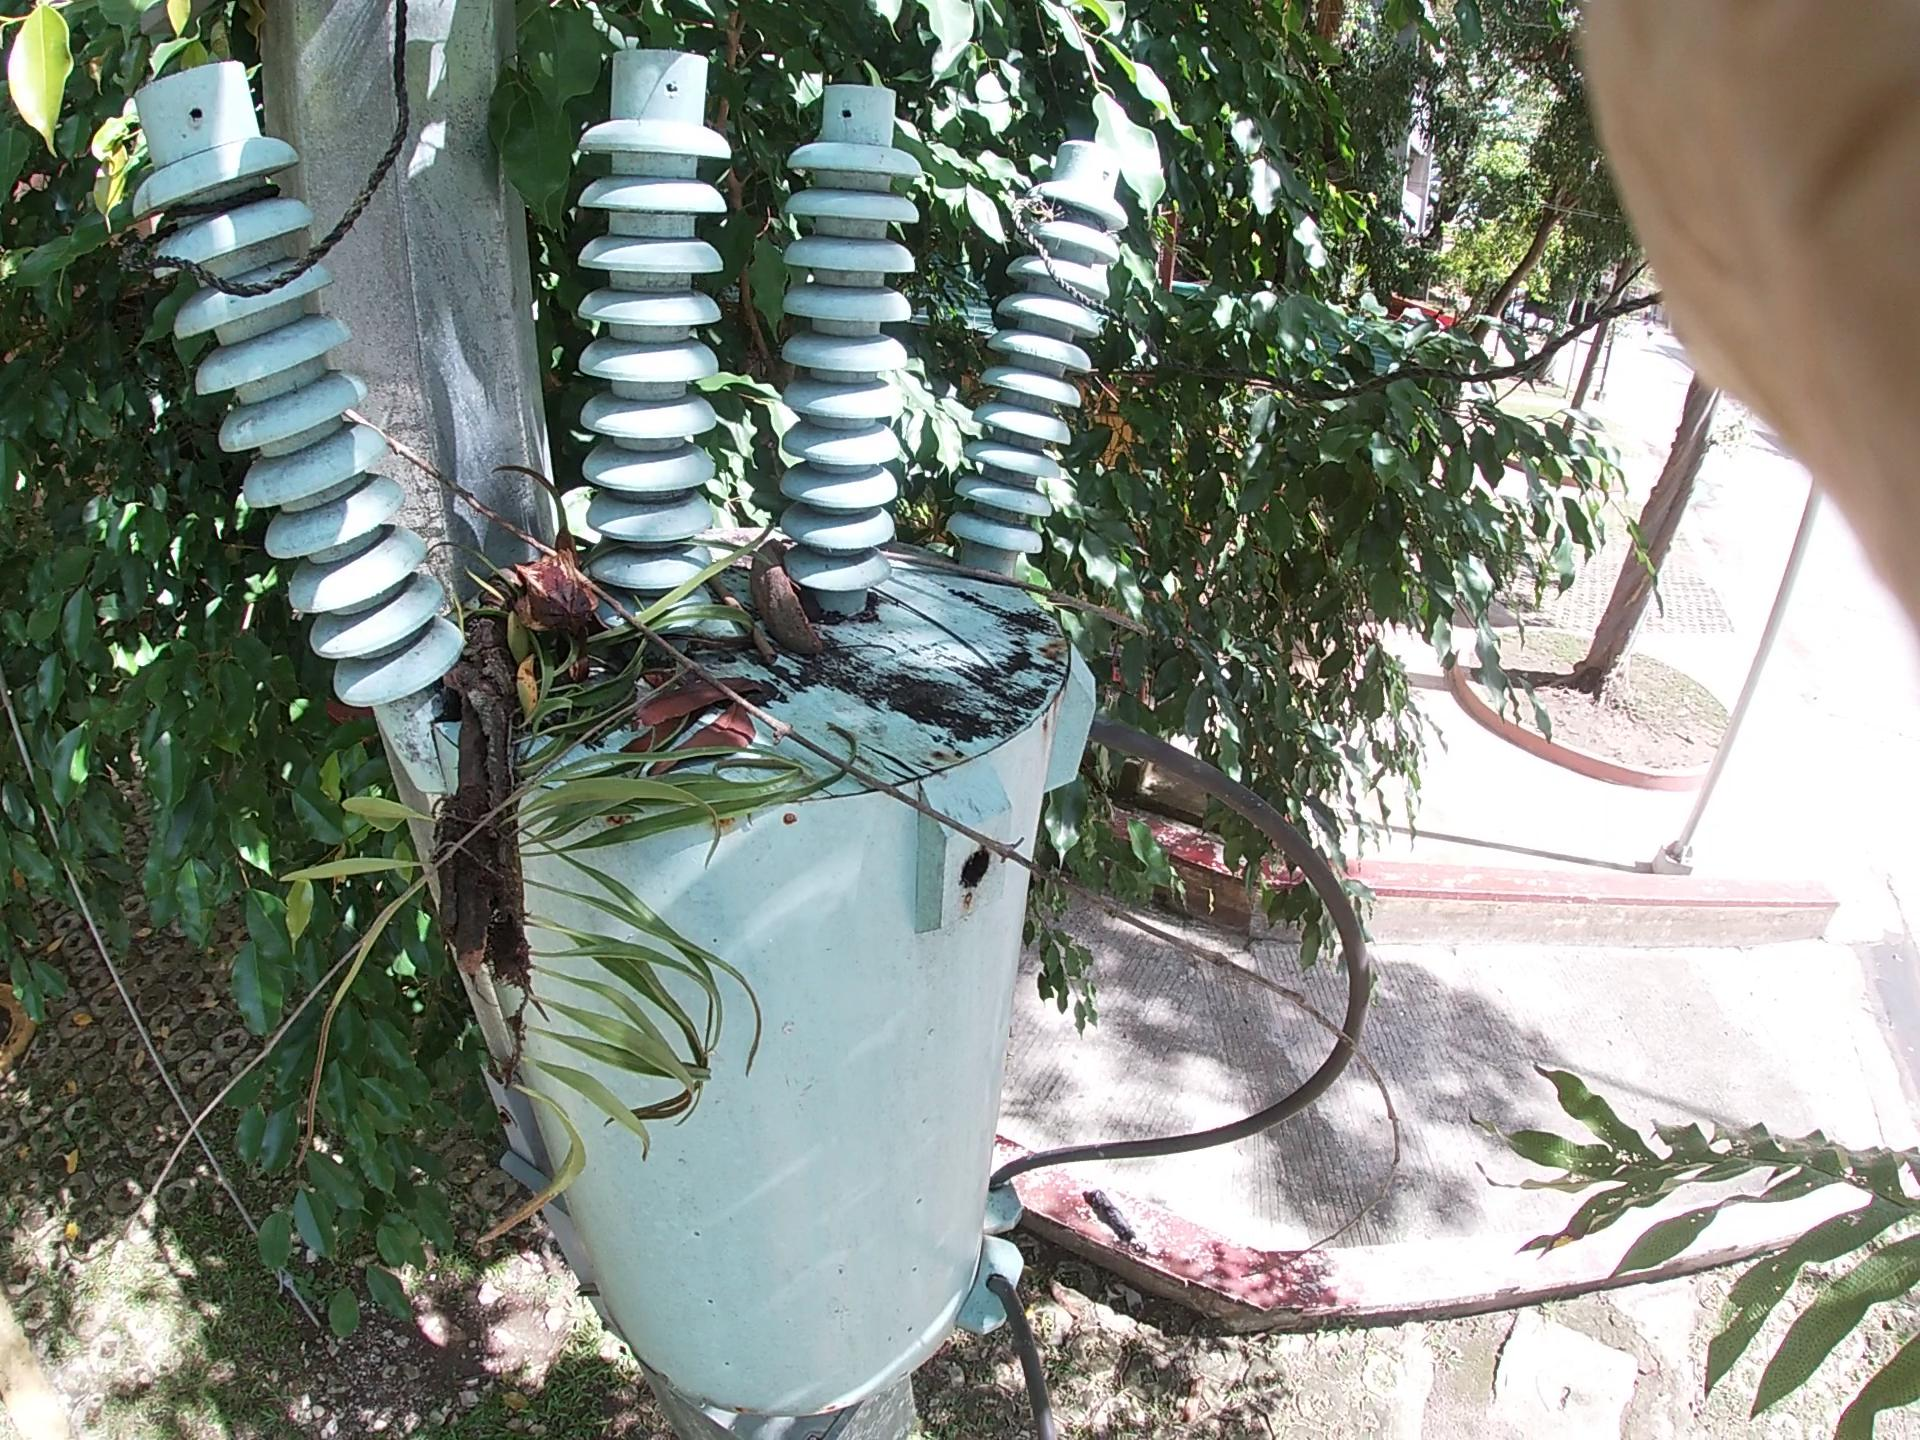branch with leaves: (416, 455, 633, 1134)
leaf: (339, 2, 1182, 449)
mahogany fruit: (714, 514, 853, 702), (485, 526, 621, 669)
tree branch: (348, 360, 1397, 1080), (848, 511, 1181, 663), (680, 535, 792, 712)
